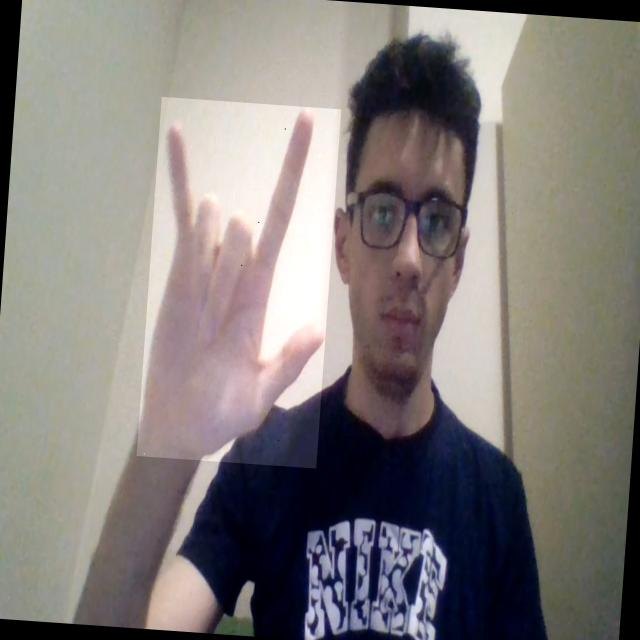iloveyou: (137, 96, 340, 468)
